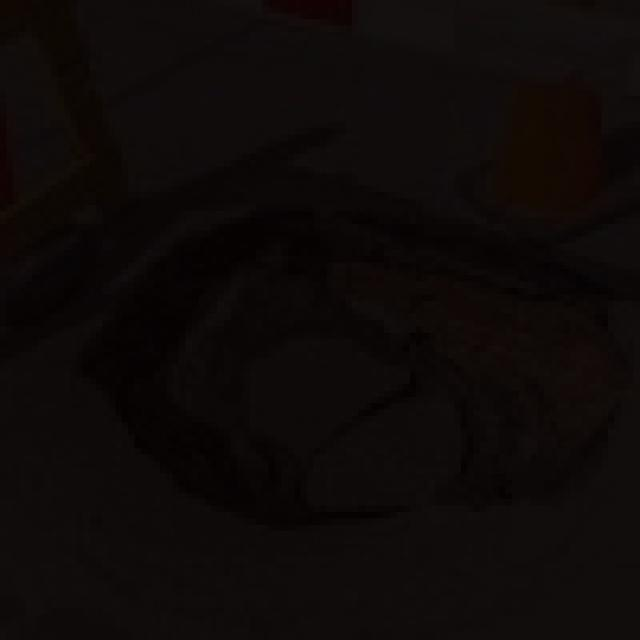Pothole: (94, 196, 640, 533)
